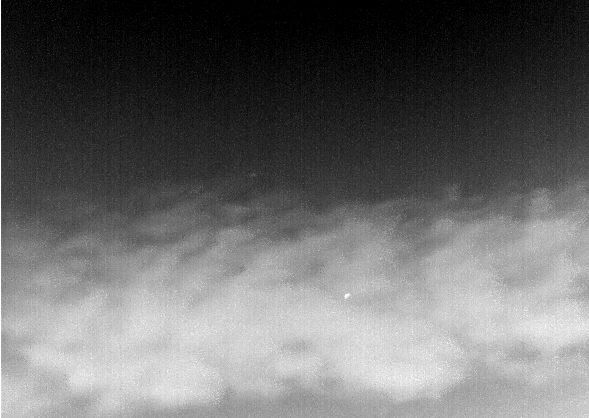dim target: (343, 292, 352, 300)
